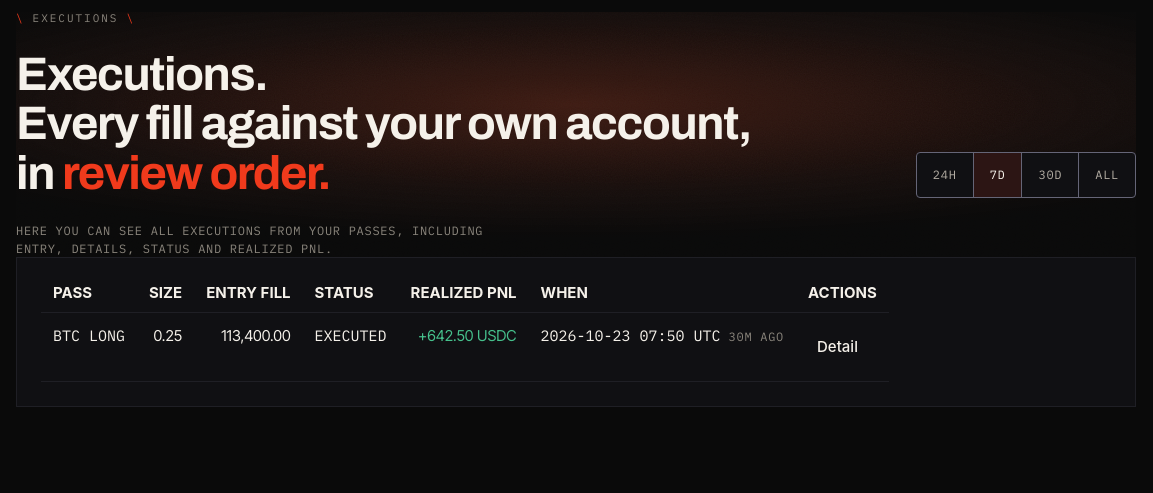
Test case: Executions (§10.9) › filters rows by the selected period window
The width and height of the screenshot is (1153, 493).
Expected: the number of buttons "Detail" is 1, [808,325,867,369]
ALL is unbounded, so both rows return.
Click the button "ALL" at (1107, 175), box [1078,153,1135,197]
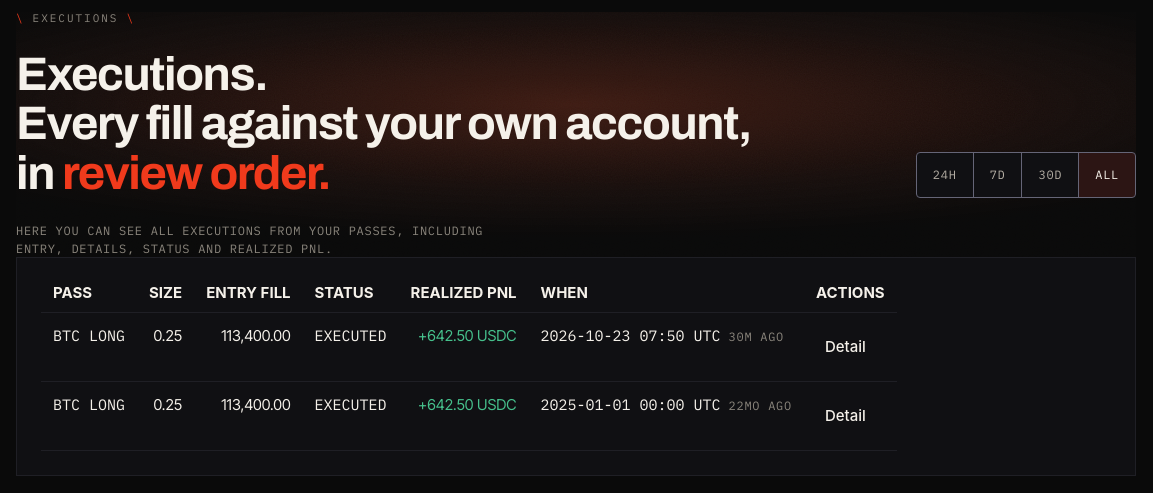
Now the number of buttons "Detail" is 2, box [816,325,875,369]; [816,394,875,438]
